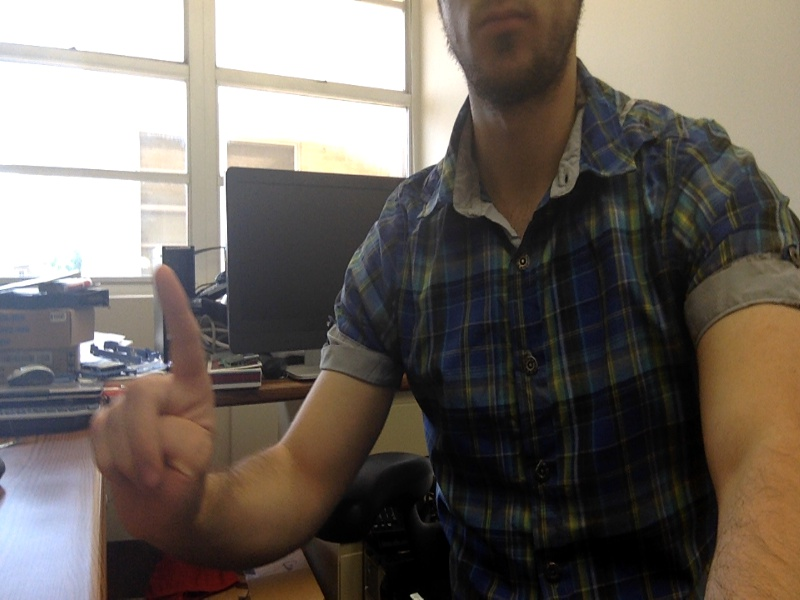1-hand: (86, 267, 215, 543)
